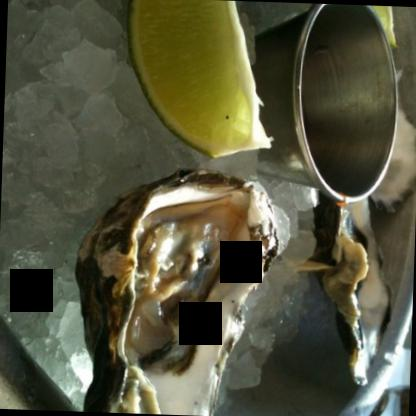lemon: (118, 0, 273, 159)
oyster: (63, 171, 291, 415)
